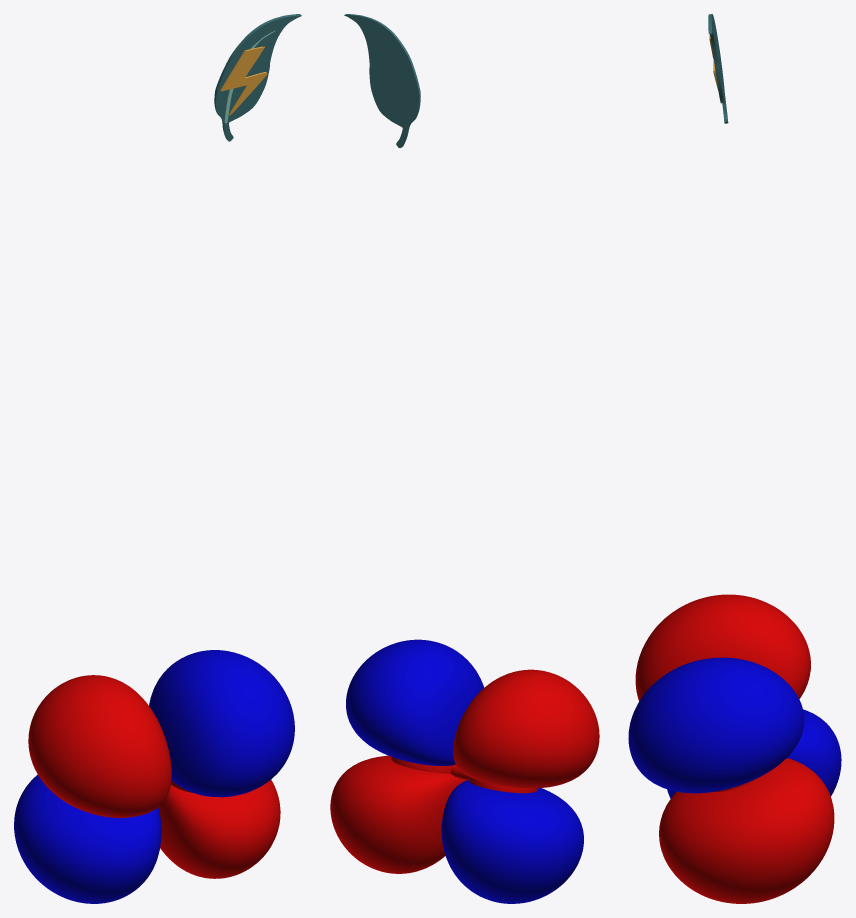
The model's file is o2_dob_ae.glb.
3 renders of one model, left to right at view 1: azimuth 30°, elevation 25°; view 2: azimuth 150°, elevation 25°; view 3: azimuth 270°, elevation 25°, orthographic. The views are drawn at different scales.
Visible parts, largest first — view 1: o2_dob_ae, path182, path186; view 2: o2_dob_ae, path182; view 3: o2_dob_ae, path182.
Part boxes in pixels (<box>): o2_dob_ae: <box>14,650,294,903</box>; path182: <box>214,14,301,141</box>; path186: <box>220,46,267,115</box>; o2_dob_ae: <box>330,639,599,903</box>; path182: <box>344,14,420,147</box>; o2_dob_ae: <box>628,594,841,903</box>; path182: <box>708,14,728,123</box>.
Size of the model in its own units: 1.86 by 5.9 by 1.26.
